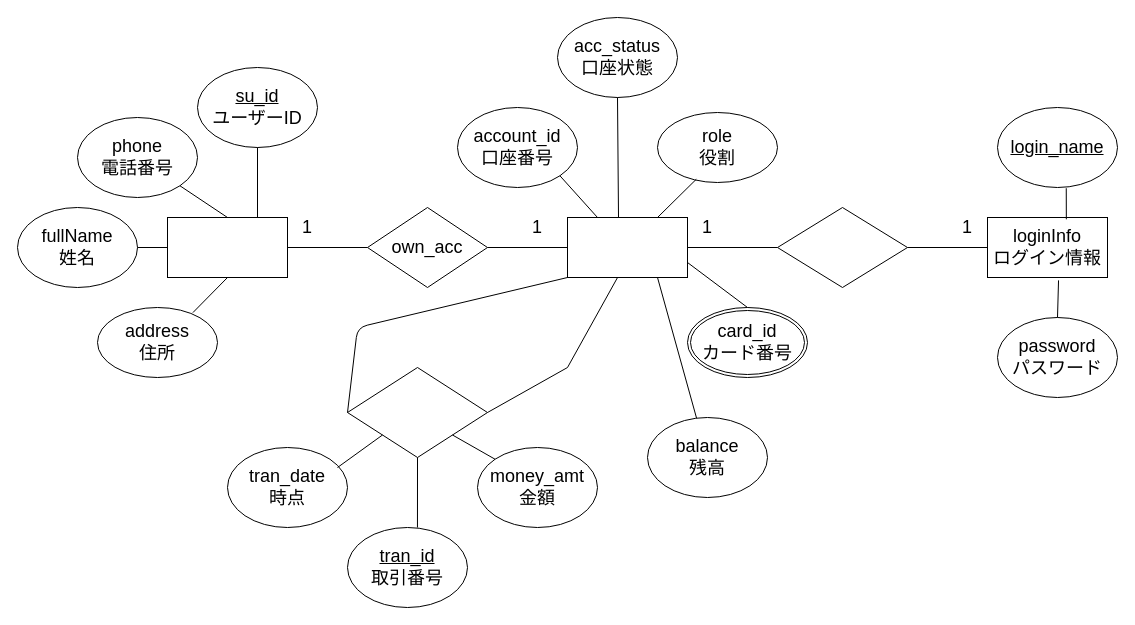
This 1135x625 diagram has some shape labels left out. Here are the shapes that lost their labels. From the top down, the box of each, then its label:
(166, 216, 288, 278): systemUser ユーザー
(566, 216, 688, 278): account 口座
(776, 206, 908, 288): connect_acc
(346, 366, 488, 458): transaction 取引
